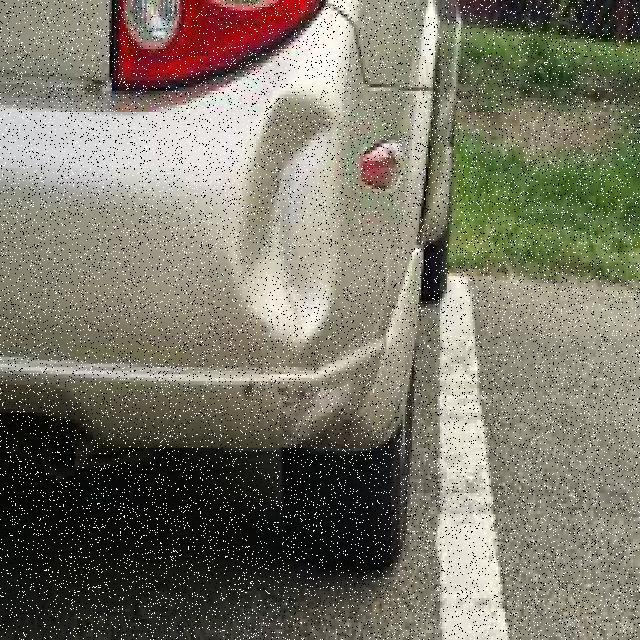rear-bumper-dent: (0, 70, 412, 430)
